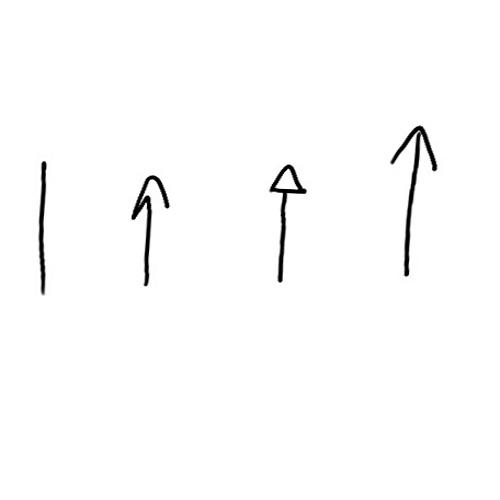arrow: (393, 121, 437, 277), (132, 169, 169, 286), (269, 162, 303, 284), (31, 158, 55, 296)
